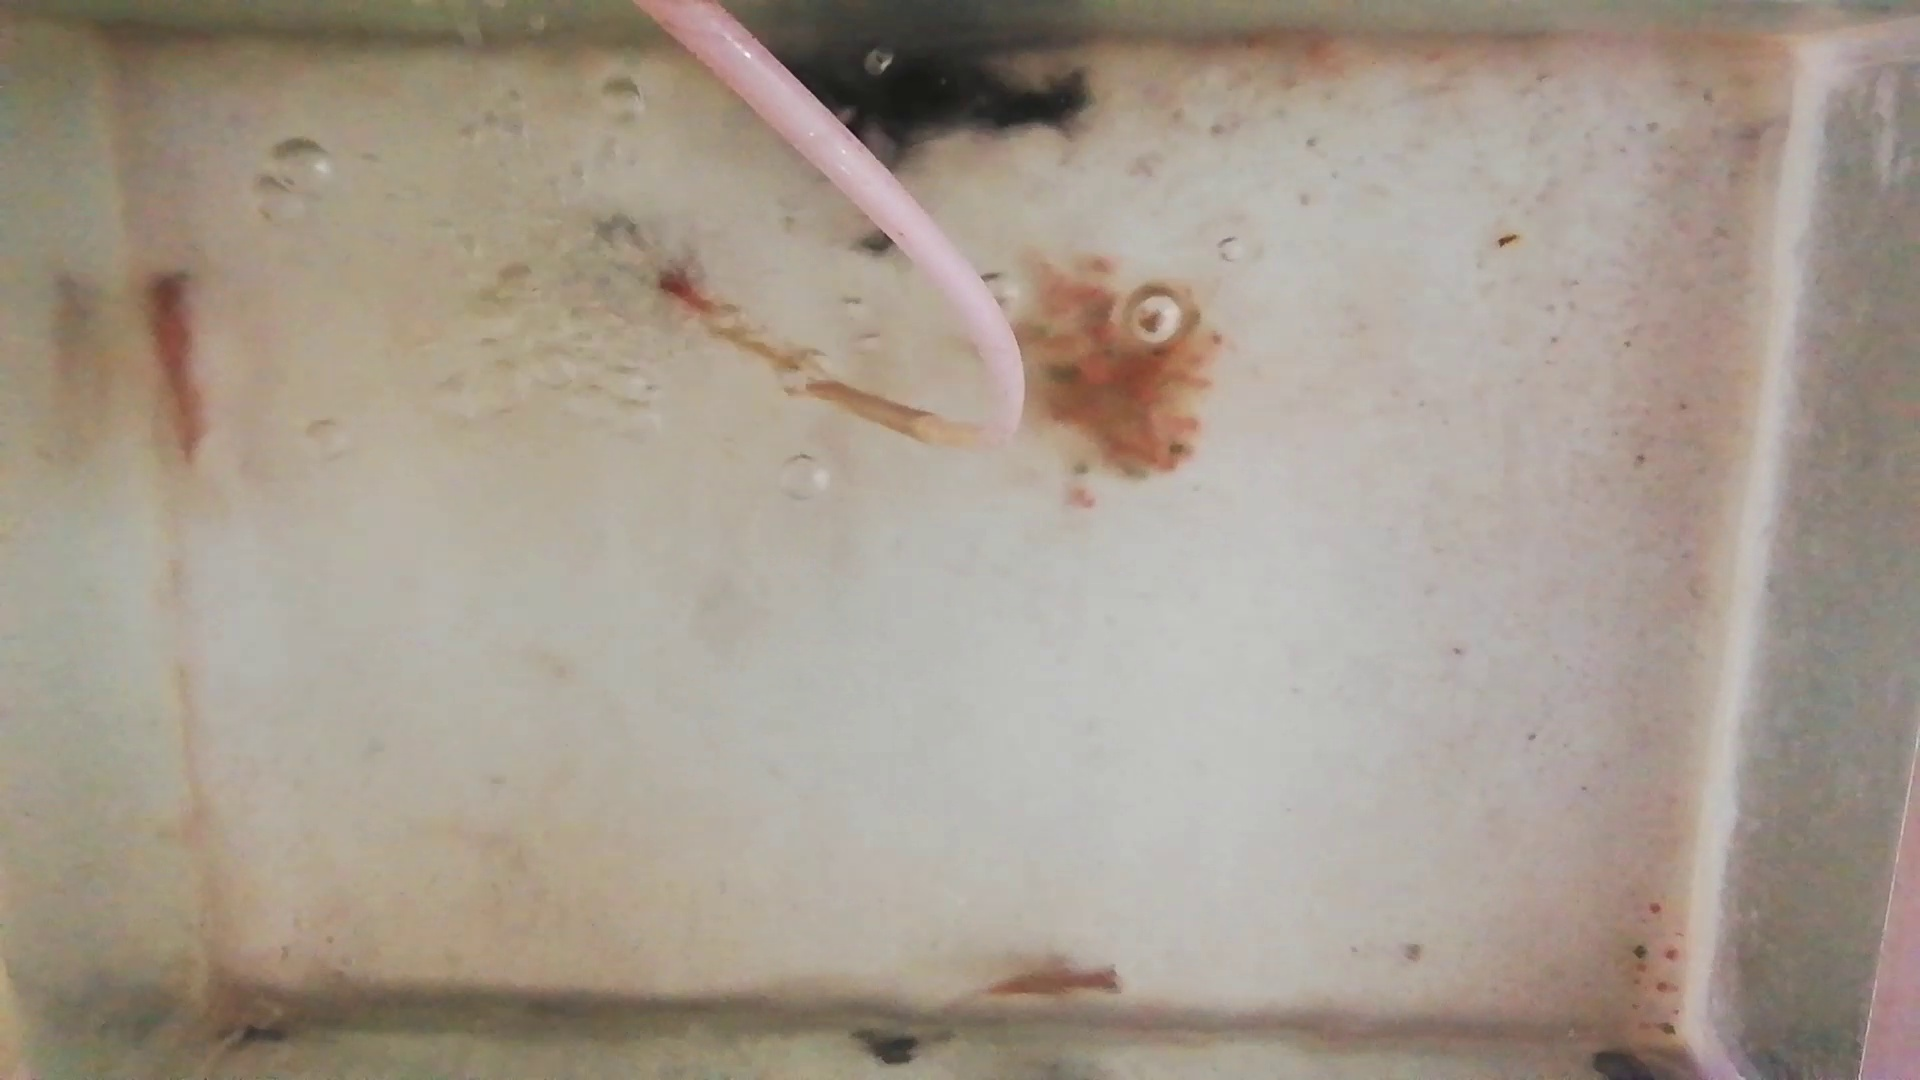fish: (149, 264, 210, 471), (984, 963, 1131, 1000)
